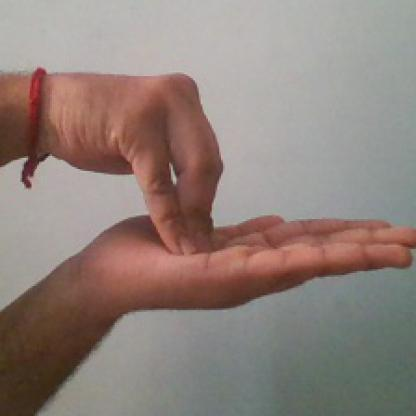Z: (53, 60, 414, 324)
